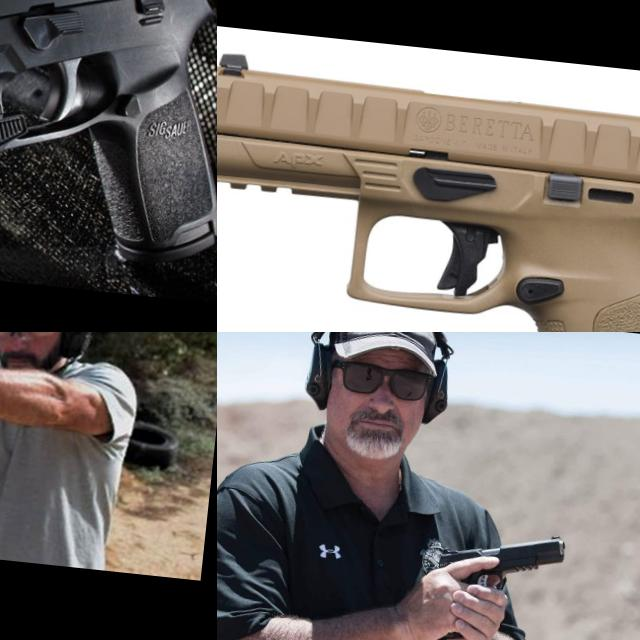handgun: (217, 43, 640, 332), (0, 0, 217, 279), (434, 518, 570, 598), (0, 332, 55, 369)
